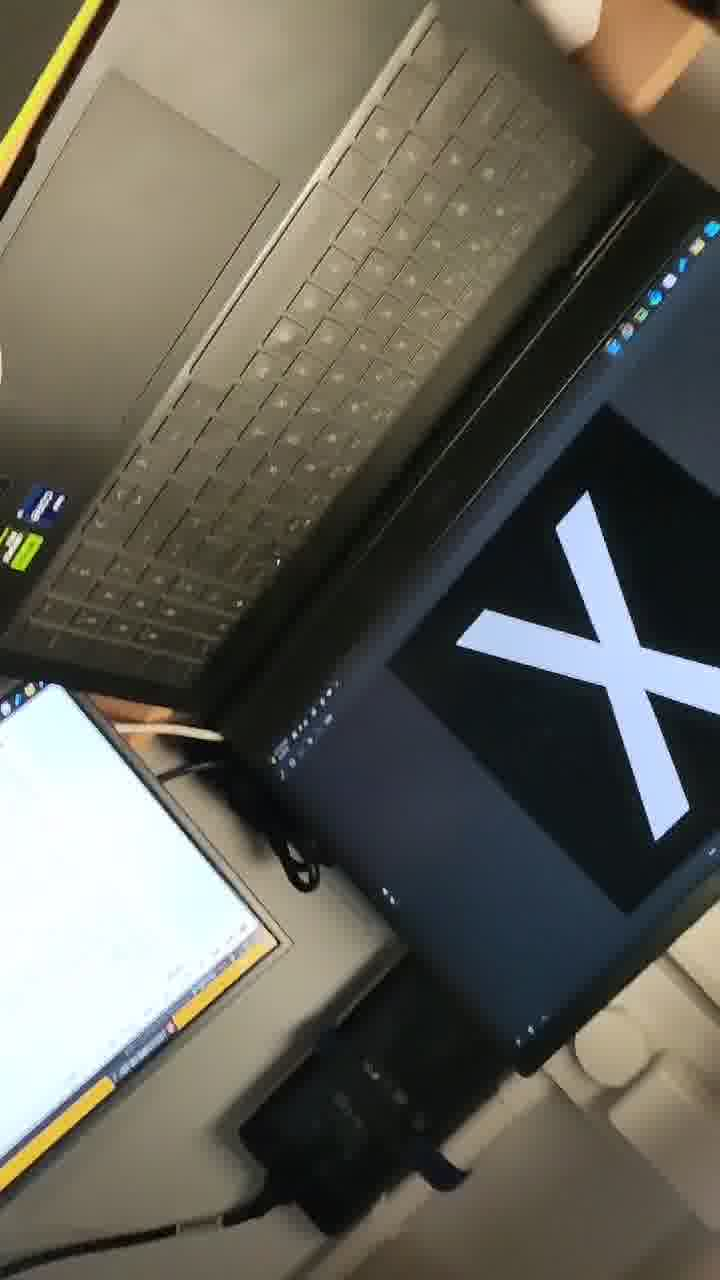X: (421, 436, 720, 860)
